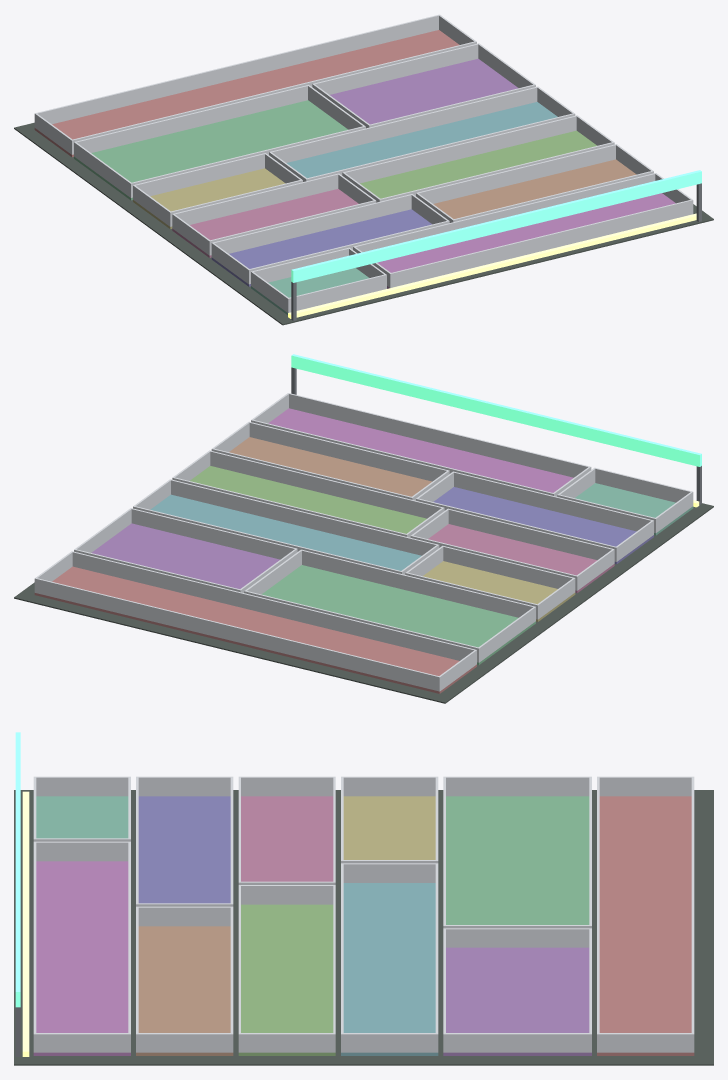
File: hall-confined-space.glb
The picture shows the model from 3 angles, top to bottom: view 1: azimuth 30°, elevation 25°; view 2: azimuth 150°, elevation 25°; view 3: azimuth 270°, elevation 25°; orthographic projection. The views are drawn at different scales.
Parts seen in each view (by area): view 1: Confined Space Rescue; view 2: Confined Space Rescue; view 3: Confined Space Rescue.
Part boxes in pixels (left/top/right/bottom): Confined Space Rescue: left=14, top=14, right=713, bottom=325; Confined Space Rescue: left=14, top=354, right=713, bottom=703; Confined Space Rescue: left=14, top=732, right=713, bottom=1065.
Size of the model in its own units: 38 by 4.3 by 41.
